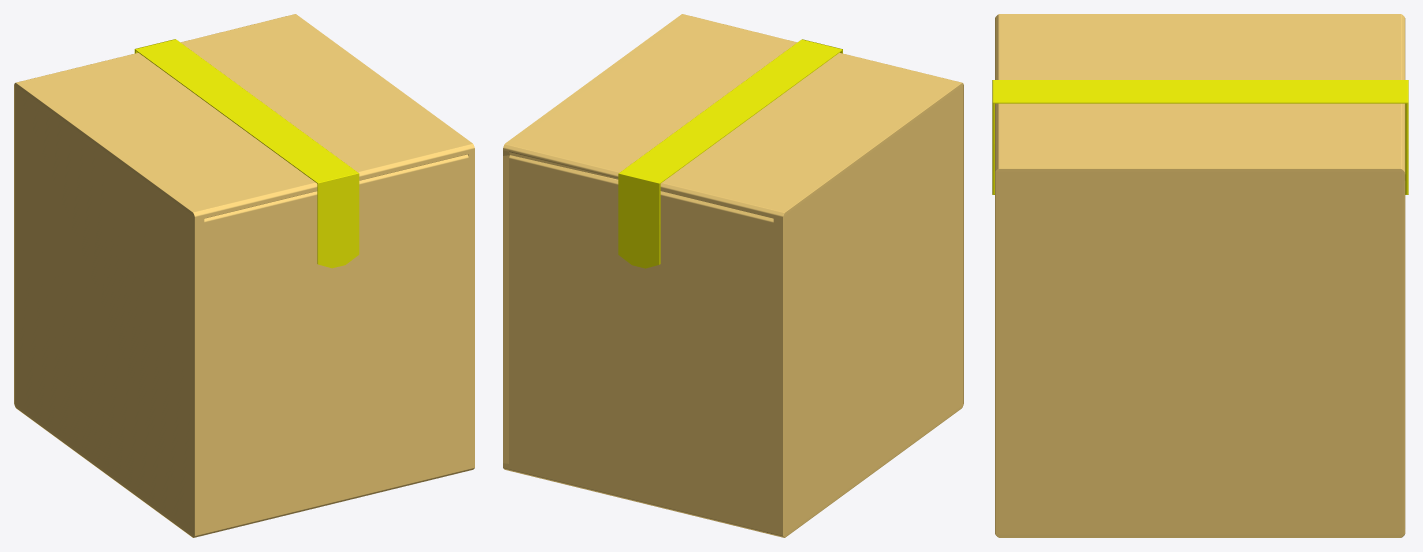
File: 16k-boite-no-label-color.fbx
The picture shows the model from 3 angles, left to right: view 1: azimuth 30°, elevation 25°; view 2: azimuth 150°, elevation 25°; view 3: azimuth 270°, elevation 25°; orthographic projection. The views are drawn at different scales.
Parts seen in each view (by area): view 1: Cube.001, tape; view 2: Cube.001, tape; view 3: Cube.001, tape.
Boxes of the visible parts, x1=… form: Cube.001: x1=14, y1=14, x2=474, y2=537; tape: x1=134, y1=39, x2=359, y2=268; Cube.001: x1=503, y1=14, x2=963, y2=537; tape: x1=618, y1=39, x2=842, y2=268; Cube.001: x1=995, y1=14, x2=1405, y2=537; tape: x1=992, y1=80, x2=1408, y2=194.
Bounding box in the file's own units: 179 × 199 × 203.
2 materials, 2 textured.
